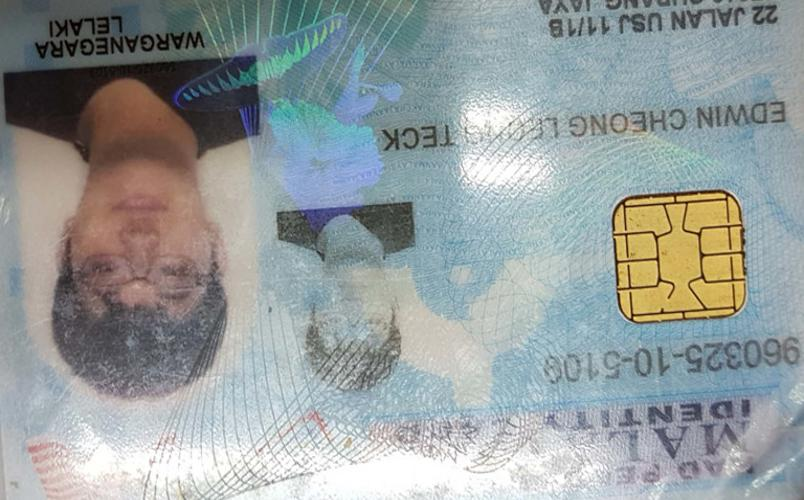hologramB: (256, 1, 381, 204)
